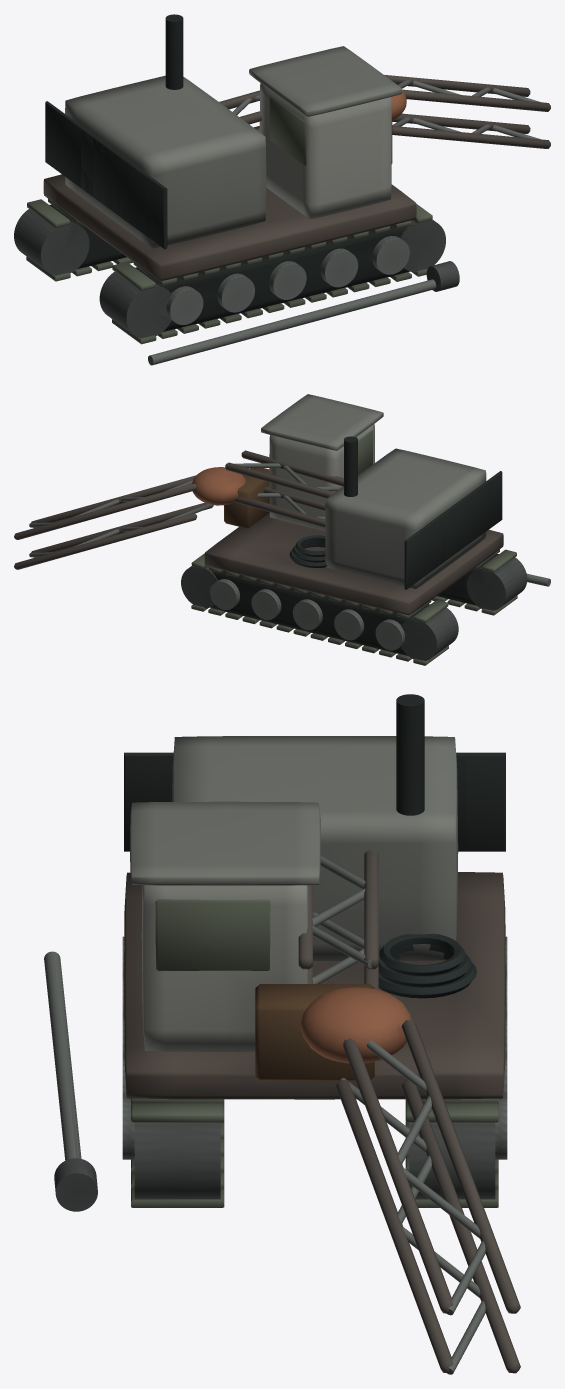
Rendered from drill_rig_b.glb.
The picture shows the model from 3 angles, top to bottom: view 1: azimuth 30°, elevation 25°; view 2: azimuth 150°, elevation 25°; view 3: azimuth 270°, elevation 25°; orthographic projection. The views are drawn at different scales.
Parts seen in each view (by area): view 1: Surface; view 2: Surface; view 3: Surface.
Part boxes in pixels (box(x1,y1,x2,y2)): Surface: box(14, 14, 550, 365); Surface: box(14, 394, 550, 665); Surface: box(44, 694, 520, 1374).
Size of the model in its own units: 8.12 by 3.47 by 3.99.
